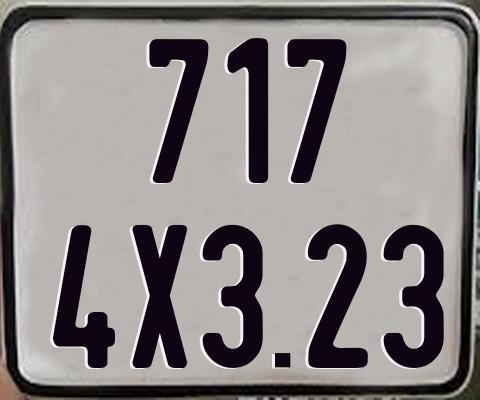1: (227, 38, 271, 186)
2: (305, 222, 371, 366)
3: (381, 223, 445, 370), (201, 224, 263, 371)
4: (51, 222, 118, 369)
7: (284, 38, 345, 186), (146, 36, 207, 182)
X: (130, 222, 185, 367)
